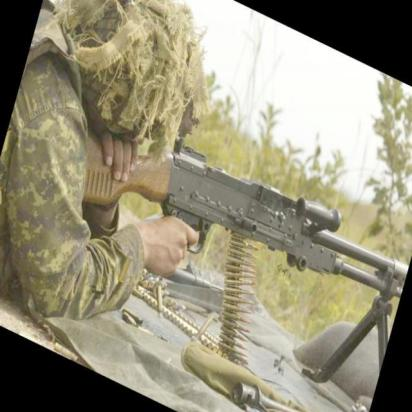Gun: (84, 137, 412, 309)
